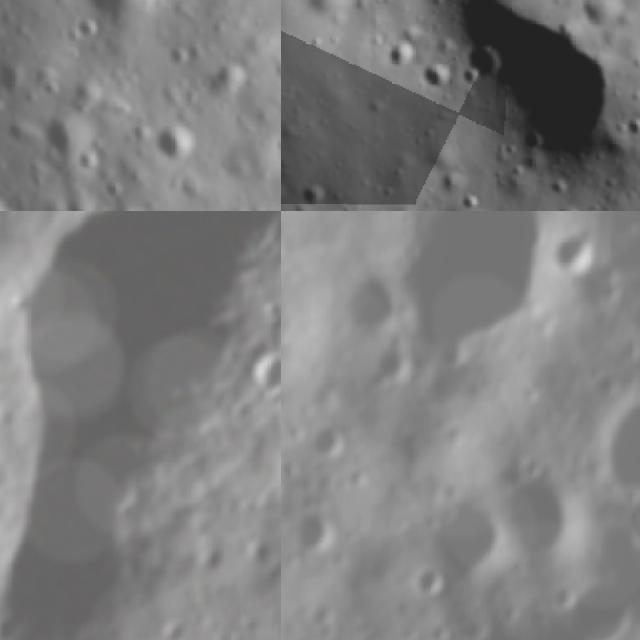crater: (444, 0, 620, 181), (382, 211, 559, 357), (428, 500, 513, 590), (504, 476, 583, 560), (141, 106, 213, 178), (28, 100, 98, 172), (567, 578, 636, 640), (602, 396, 640, 503), (344, 272, 403, 335), (64, 0, 155, 40), (545, 226, 605, 276), (455, 38, 520, 84), (241, 334, 281, 399), (66, 4, 113, 54), (293, 506, 339, 556), (415, 57, 460, 103), (156, 34, 200, 80), (0, 52, 34, 109), (406, 561, 452, 601), (377, 344, 415, 387), (312, 421, 352, 461), (576, 0, 625, 32), (514, 444, 547, 486), (385, 38, 423, 73), (85, 193, 154, 211), (300, 178, 332, 211), (540, 196, 583, 211), (460, 190, 482, 210), (281, 176, 293, 209)
